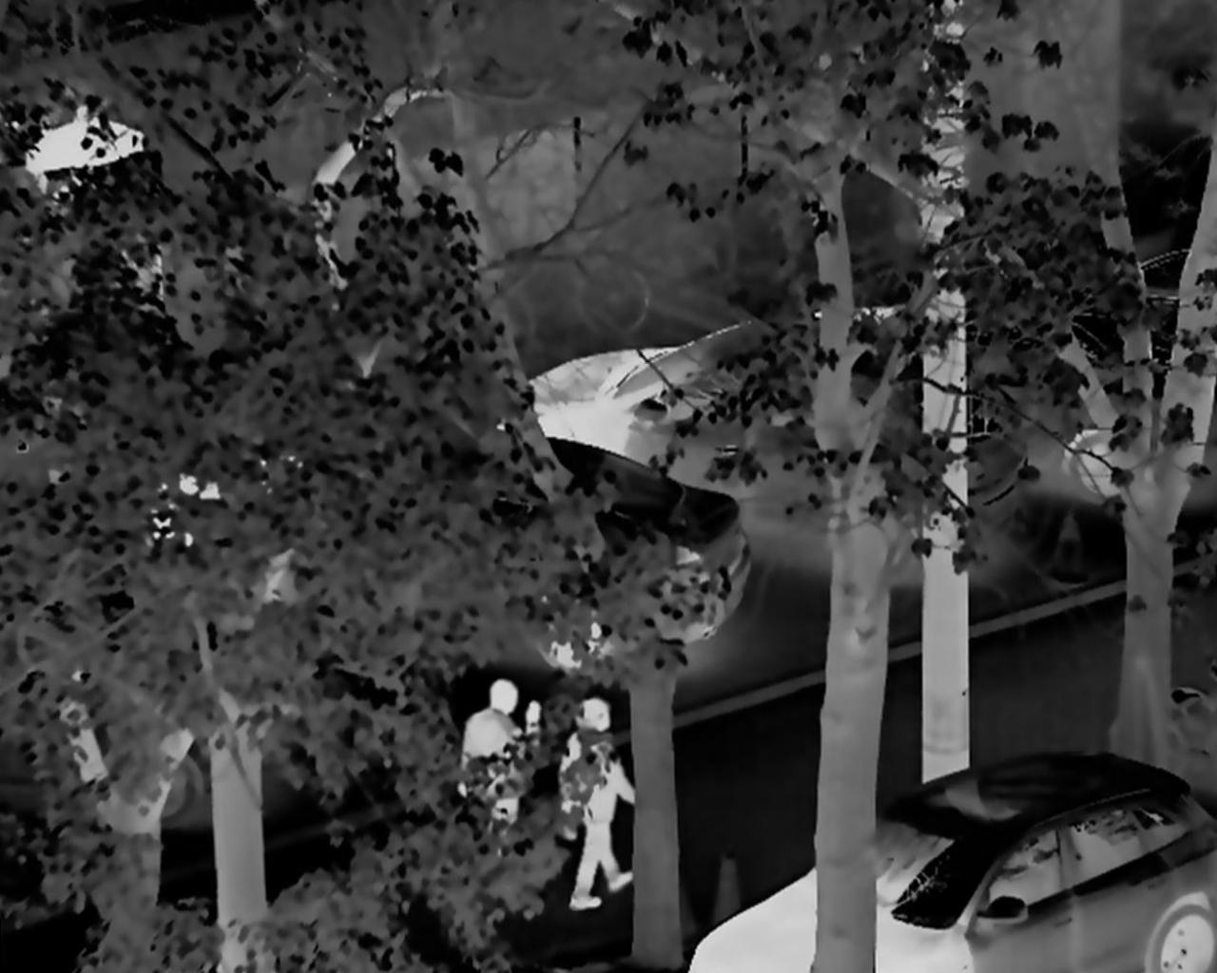person: (554, 688, 651, 914), (451, 678, 546, 907)
